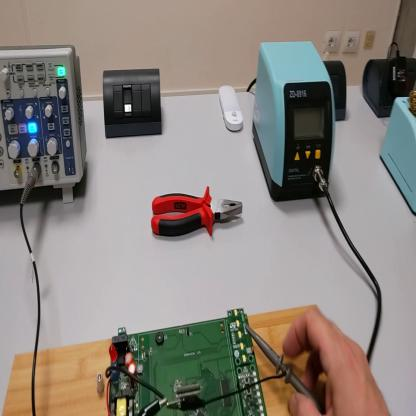hand: (285, 307, 390, 415)
low voltage board: (108, 307, 269, 414)
oscilloscope: (1, 40, 89, 210)
oscilloscope probe tip: (244, 323, 324, 414)
pliers: (151, 182, 245, 242)
socket: (363, 55, 416, 119), (324, 58, 348, 122)
welder base: (382, 84, 416, 219)
welder station: (256, 34, 336, 203)
working area: (8, 301, 328, 415)
